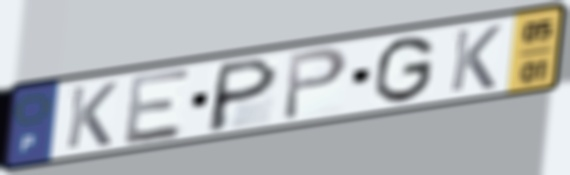E: (122, 64, 194, 148)
G: (370, 33, 438, 106)
K: (62, 79, 121, 151), (447, 22, 505, 95)
P: (203, 54, 283, 135), (279, 44, 351, 124)
